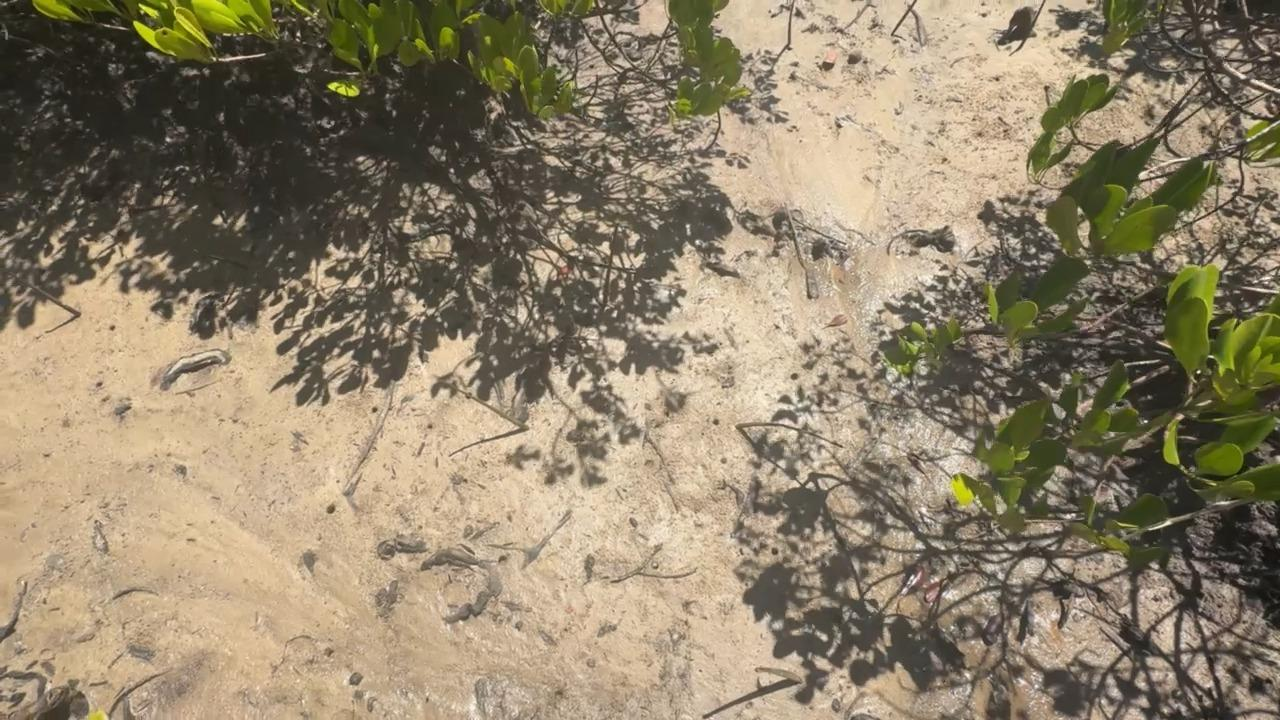Tree: (434, 373, 528, 430), (5, 262, 81, 317), (735, 422, 843, 448), (1018, 0, 1045, 48), (603, 224, 618, 309), (890, 0, 917, 37), (756, 665, 802, 683), (786, 0, 796, 45), (714, 108, 722, 128)
